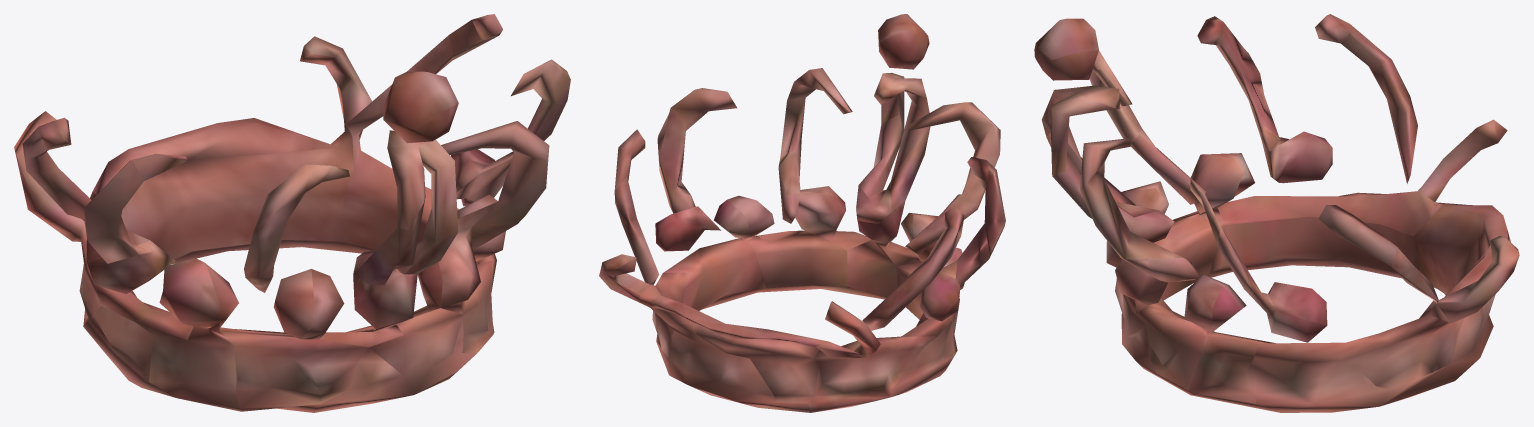
3 views of the same model, side by side, from view 1: azimuth 30°, elevation 25°; view 2: azimuth 150°, elevation 25°; view 3: azimuth 270°, elevation 25° (orthographic). The views are drawn at different scales.
Visible parts, largest first — view 1: Pink-Crown-28; view 2: Pink-Crown-28; view 3: Pink-Crown-28.
Boxes of the visible parts, bbox=[...] form: Pink-Crown-28: bbox=[14, 14, 570, 412]; Pink-Crown-28: bbox=[599, 14, 1005, 412]; Pink-Crown-28: bbox=[1034, 14, 1519, 412].
Bounding box in the file's own units: 0.2742 × 0.1967 × 0.27.
1 material, 1 textured.
